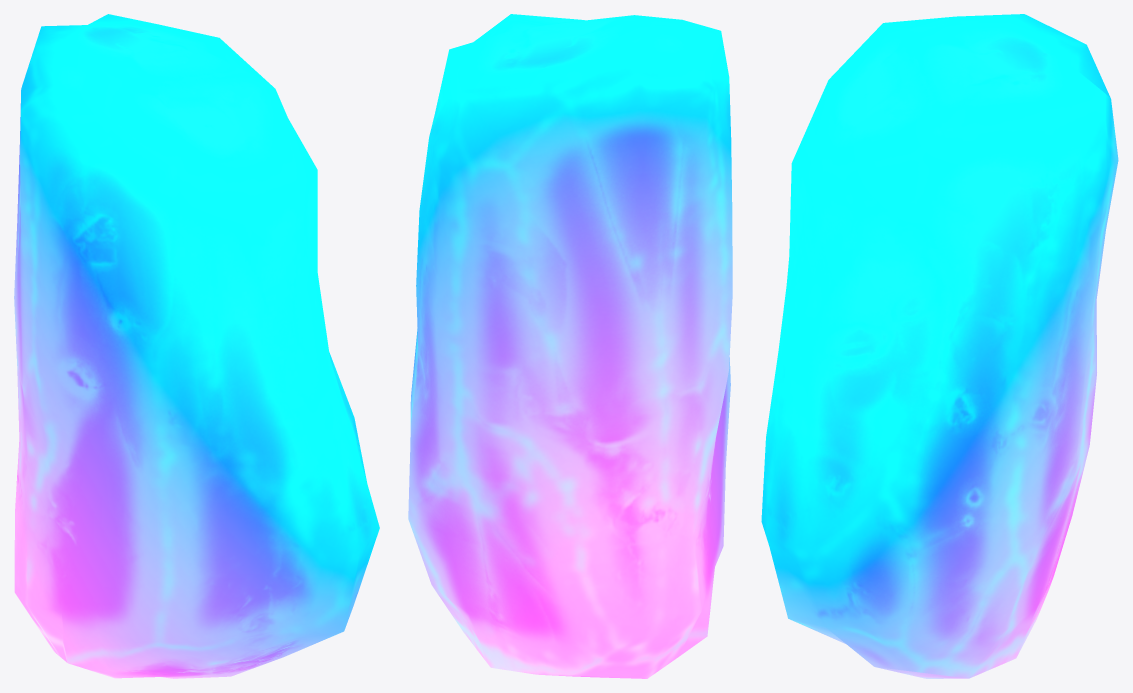
File: free__magic_gemme.glb
3 views of the same model, side by side, from view 1: azimuth 30°, elevation 25°; view 2: azimuth 150°, elevation 25°; view 3: azimuth 270°, elevation 25° (orthographic). The views are drawn at different scales.
Parts seen in each view (by area): view 1: Object001_Gemme_LOD0_mat_0; view 2: Object001_Gemme_LOD0_mat_0; view 3: Object001_Gemme_LOD0_mat_0.
Part boxes in pixels (bbox=[...]): Object001_Gemme_LOD0_mat_0: bbox=[14, 14, 379, 678]; Object001_Gemme_LOD0_mat_0: bbox=[408, 14, 732, 678]; Object001_Gemme_LOD0_mat_0: bbox=[761, 14, 1118, 678].
Size of the model in its own units: 0.0166 by 0.0335 by 0.0182.
Materials: 1 (1 with a texture image).
